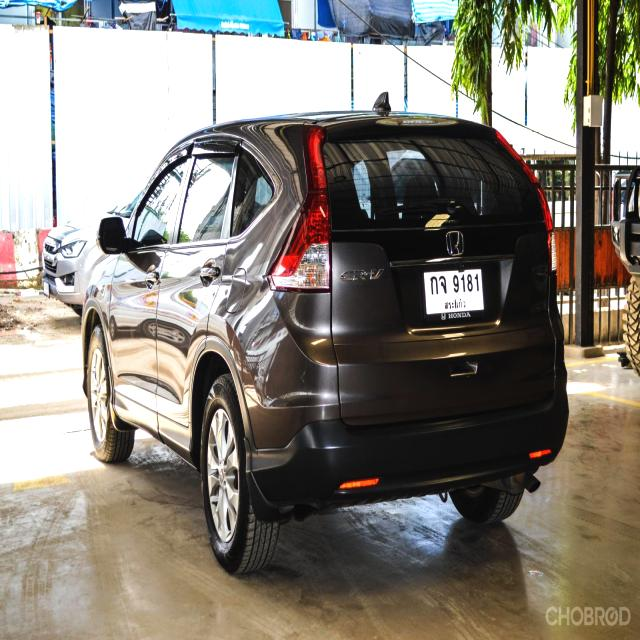license_plate: (422, 266, 486, 320)
